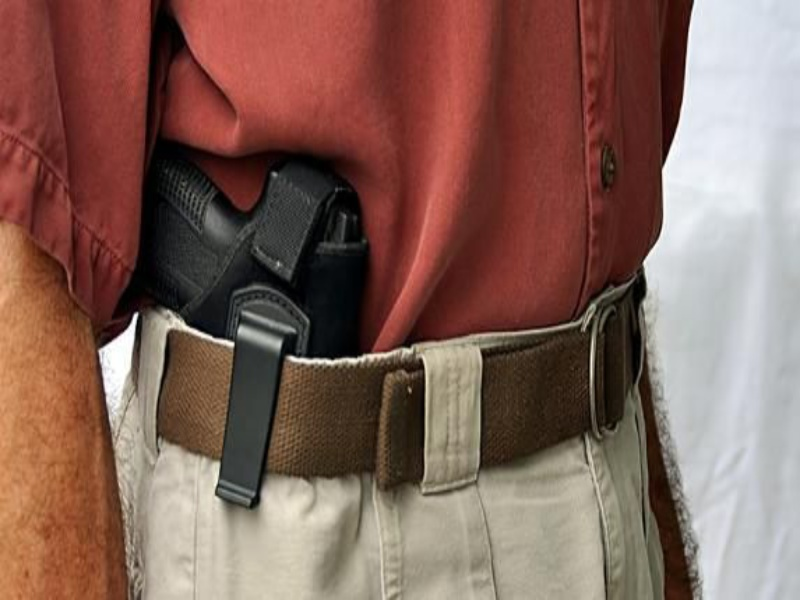gun: (134, 140, 388, 379)
